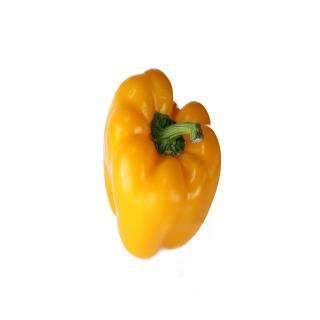Bell pepper: (106, 69, 222, 258)
